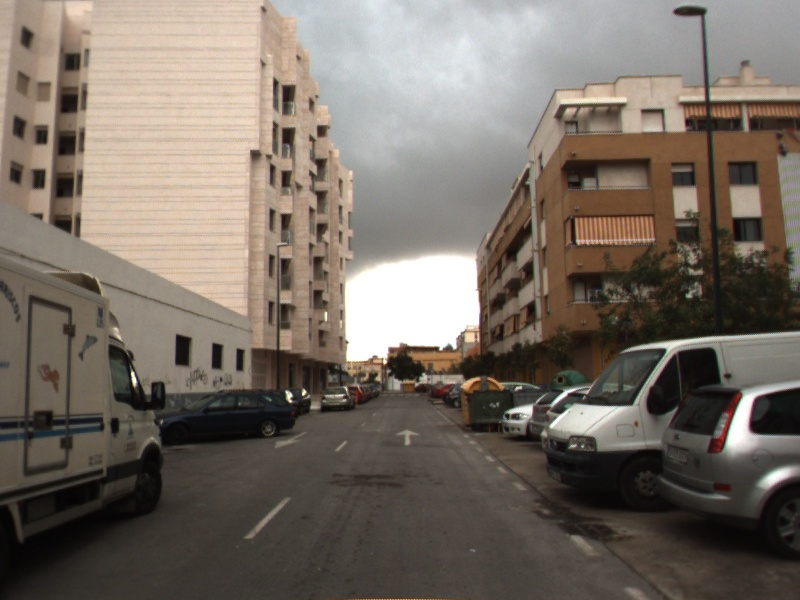STRAIGHT: (393, 426, 423, 449)
